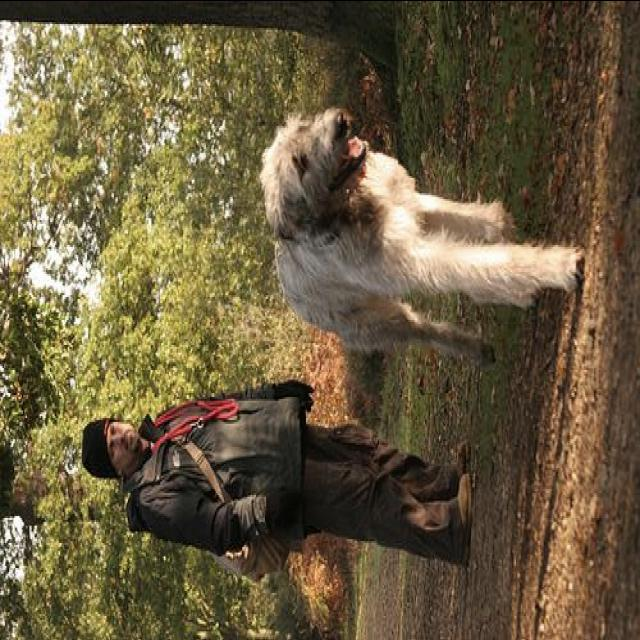irish_wolfhound: (257, 105, 585, 358)
